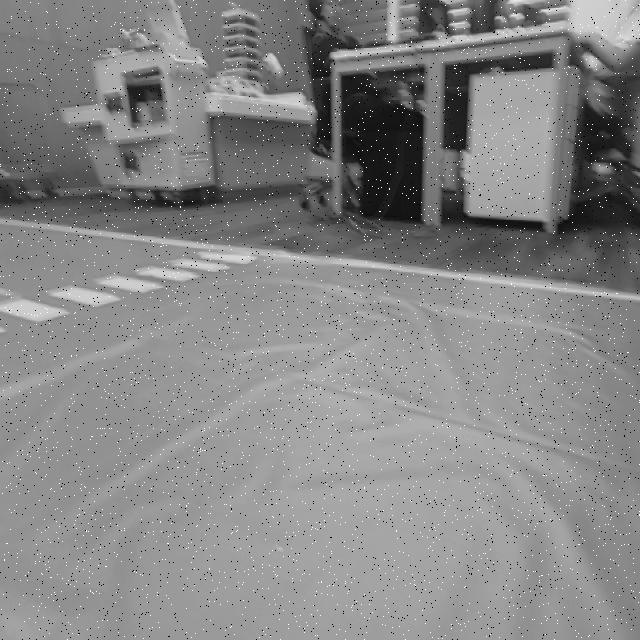left_lane: (1, 286, 27, 299)
right_lane: (2, 220, 626, 299)
